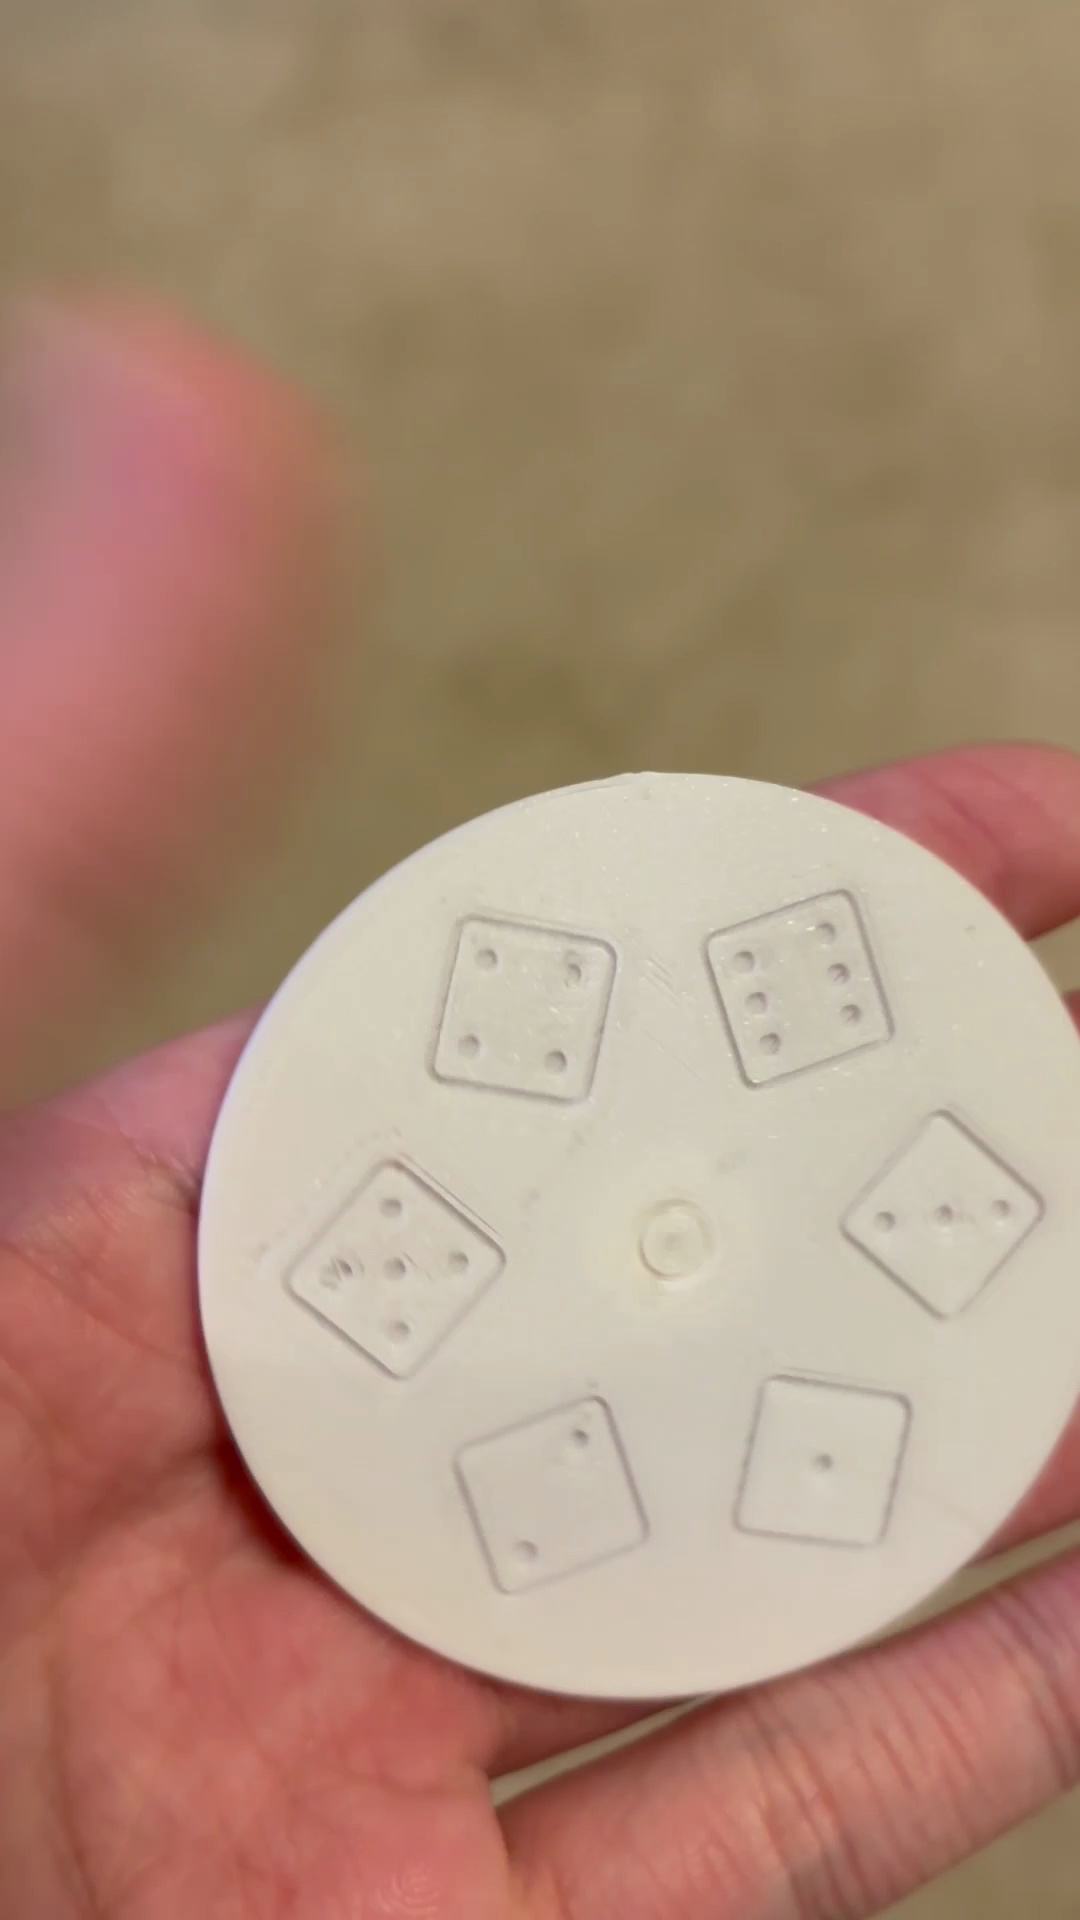Part1: (198, 774, 1079, 1700)
